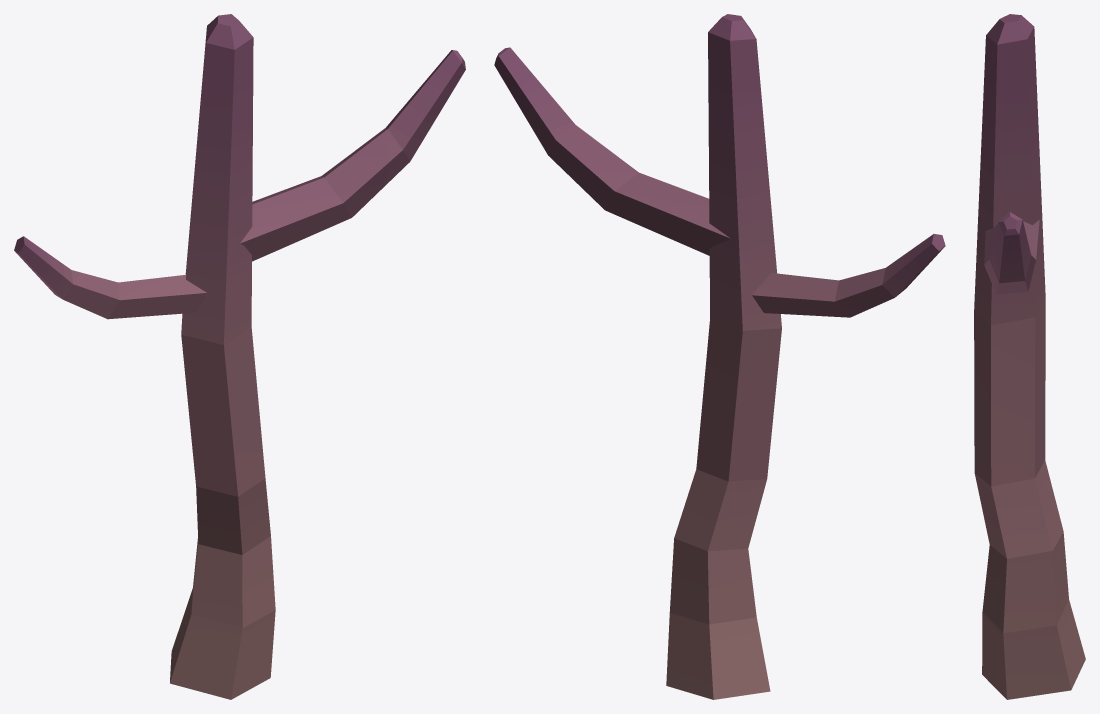
Rendered from tree.obj.
3 renders of one model, left to right at view 1: azimuth 30°, elevation 25°; view 2: azimuth 150°, elevation 25°; view 3: azimuth 270°, elevation 25°, orthographic.
Parts seen in each view (by area): view 1: tree; view 2: tree; view 3: tree.
Part boxes in pixels (x1,y1,x2,y2): tree: [14, 14, 465, 699]; tree: [494, 14, 945, 699]; tree: [974, 14, 1085, 699].
Bounding box in the file's own units: 9.74 × 13.89 × 2.12.
Materials: 1 (1 with a texture image).
